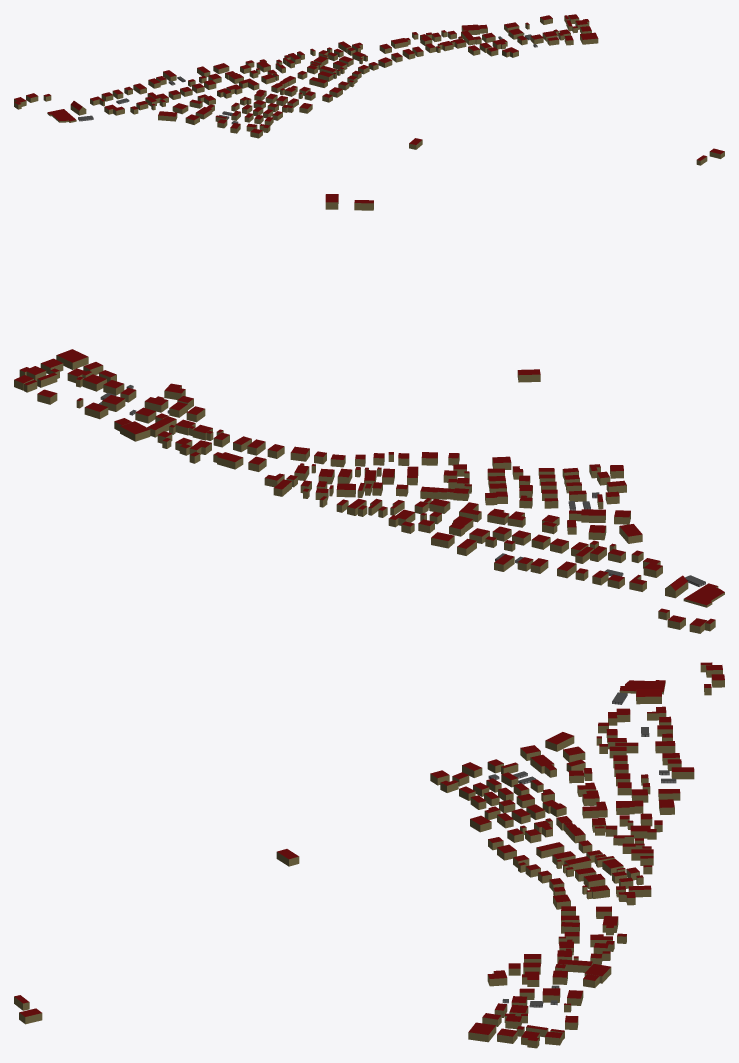
Rendered from Ingolstadt_Tile_9_8.obj.
The picture shows the model from 3 angles, top to bottom: view 1: azimuth 30°, elevation 25°; view 2: azimuth 150°, elevation 25°; view 3: azimuth 270°, elevation 25°; orthographic projection. The views are drawn at different scales.
Bounding box in the file's own units: 834 × 12.5 × 662.
